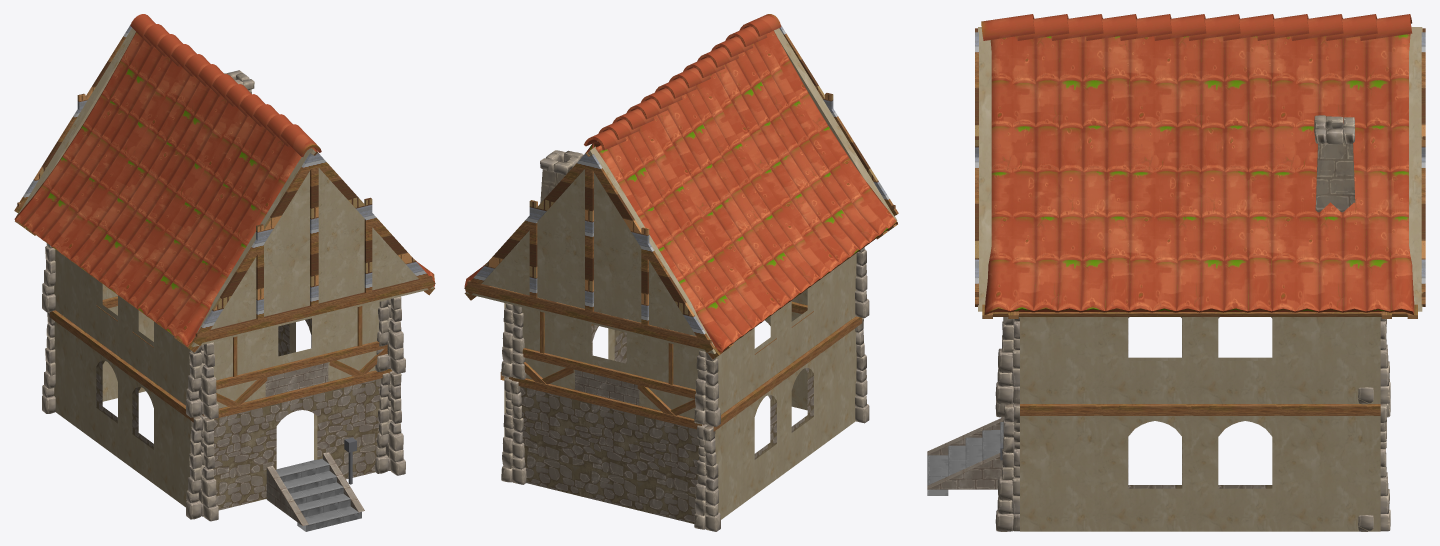
Rendered from town_hall_t2.glb.
The picture shows the model from 3 angles, left to right: view 1: azimuth 30°, elevation 25°; view 2: azimuth 150°, elevation 25°; view 3: azimuth 270°, elevation 25°; orthographic projection. The views are drawn at different scales.
Parts seen in each view (by area): view 1: Roof_RoundTiles_6x8_inst, gable, Wall_UnevenBrick_Straight_inst, Stairs_Exterior_Straight_inst, Wall_UnevenBrick_Straight_inst.003, Wall_UnevenBrick_Straight_inst.007, Wall_Plaster_Straight_inst.002, Wall_Plaster_Straight_inst, Wall_Plaster_Window_Wide_Round_inst, Wall_UnevenBrick_Window_Wide_Round_inst, Wall_UnevenBrick_Window_Wide_Round_inst.002, Wall_UnevenBrick_Straight_inst.005 (+21 smaller); view 2: Roof_RoundTiles_6x8_inst, gable.001, Wall_UnevenBrick_Straight_inst.002, Wall_UnevenBrick_Straight_inst.001, Wall_UnevenBrick_Straight_inst.004, Wall_Plaster_Straight_inst.001, Wall_UnevenBrick_Straight_inst.005, Wall_Plaster_Straight_inst.003, Wall_Plaster_Window_Wide_Round_inst.001, Wall_UnevenBrick_Window_Wide_Round_inst, Wall_UnevenBrick_Window_Wide_Round_inst.002, Wall_UnevenBrick_Straight_inst.007 (+21 smaller); view 3: Roof_RoundTiles_6x8_inst, Wall_UnevenBrick_Straight_inst.006, Wall_UnevenBrick_Straight_inst.008, Wall_UnevenBrick_Window_Wide_Round_inst.001, Wall_UnevenBrick_Window_Wide_Round_inst.003, Wall_Plaster_Straight_inst.005, Wall_Plaster_Straight_inst.007, Wall_Plaster_Window_Wide_Round_inst.005, Wall_Plaster_Window_Wide_Round_inst.003, Stairs_Exterior_Straight_inst, Prop_Chimney_inst, gable.001 (+7 smaller).
Boxes of the visible parts, bbox=[...] form: Roof_RoundTiles_6x8_inst: bbox=[14, 14, 434, 352]; gable: bbox=[191, 148, 433, 346]; Wall_UnevenBrick_Straight_inst: bbox=[203, 397, 267, 510]; Stairs_Exterior_Straight_inst: bbox=[266, 452, 364, 531]; Wall_UnevenBrick_Straight_inst.003: bbox=[323, 369, 391, 479]; Wall_UnevenBrick_Straight_inst.007: bbox=[49, 310, 89, 436]; Wall_Plaster_Straight_inst.002: bbox=[328, 302, 387, 381]; Wall_Plaster_Straight_inst: bbox=[213, 329, 267, 408]; Wall_Plaster_Window_Wide_Round_inst: bbox=[265, 314, 329, 396]; Wall_UnevenBrick_Window_Wide_Round_inst: bbox=[121, 361, 161, 488]; Wall_UnevenBrick_Window_Wide_Round_inst.002: bbox=[85, 335, 125, 462]; Wall_UnevenBrick_Straight_inst.005: bbox=[157, 387, 203, 507]; Roof_RoundTiles_6x8_inst: bbox=[464, 14, 897, 359]; gable.001: bbox=[465, 146, 716, 353]; Wall_UnevenBrick_Straight_inst.002: bbox=[573, 390, 642, 510]; Wall_UnevenBrick_Straight_inst.001: bbox=[637, 406, 703, 523]; Wall_UnevenBrick_Straight_inst.004: bbox=[509, 377, 579, 494]; Wall_Plaster_Straight_inst.001: bbox=[637, 336, 698, 418]; Wall_UnevenBrick_Straight_inst.005: bbox=[816, 316, 862, 445]; Wall_Plaster_Straight_inst.003: bbox=[522, 307, 574, 389]; Wall_Plaster_Window_Wide_Round_inst.001: bbox=[573, 320, 639, 405]; Wall_UnevenBrick_Window_Wide_Round_inst: bbox=[779, 341, 825, 473]; Wall_UnevenBrick_Window_Wide_Round_inst.002: bbox=[742, 368, 787, 500]; Wall_UnevenBrick_Straight_inst.007: bbox=[713, 396, 750, 519]; Roof_RoundTiles_6x8_inst: bbox=[981, 14, 1417, 318]; Wall_UnevenBrick_Straight_inst.006: bbox=[1020, 404, 1109, 531]; Wall_UnevenBrick_Straight_inst.008: bbox=[1290, 404, 1380, 531]; Wall_UnevenBrick_Window_Wide_Round_inst.001: bbox=[1110, 404, 1200, 531]; Wall_UnevenBrick_Window_Wide_Round_inst.003: bbox=[1200, 404, 1290, 531]; Wall_Plaster_Straight_inst.005: bbox=[1020, 317, 1109, 403]; Wall_Plaster_Straight_inst.007: bbox=[1290, 317, 1380, 403]; Wall_Plaster_Window_Wide_Round_inst.005: bbox=[1200, 317, 1290, 403]; Wall_Plaster_Window_Wide_Round_inst.003: bbox=[1110, 317, 1200, 403]; Stairs_Exterior_Straight_inst: bbox=[927, 416, 1004, 495]; Prop_Chimney_inst: bbox=[1314, 115, 1355, 212]; gable.001: bbox=[1409, 27, 1422, 311].
Size of the model in its own units: 8.25 by 11.34 by 11.05.
23 materials, 21 textured.
